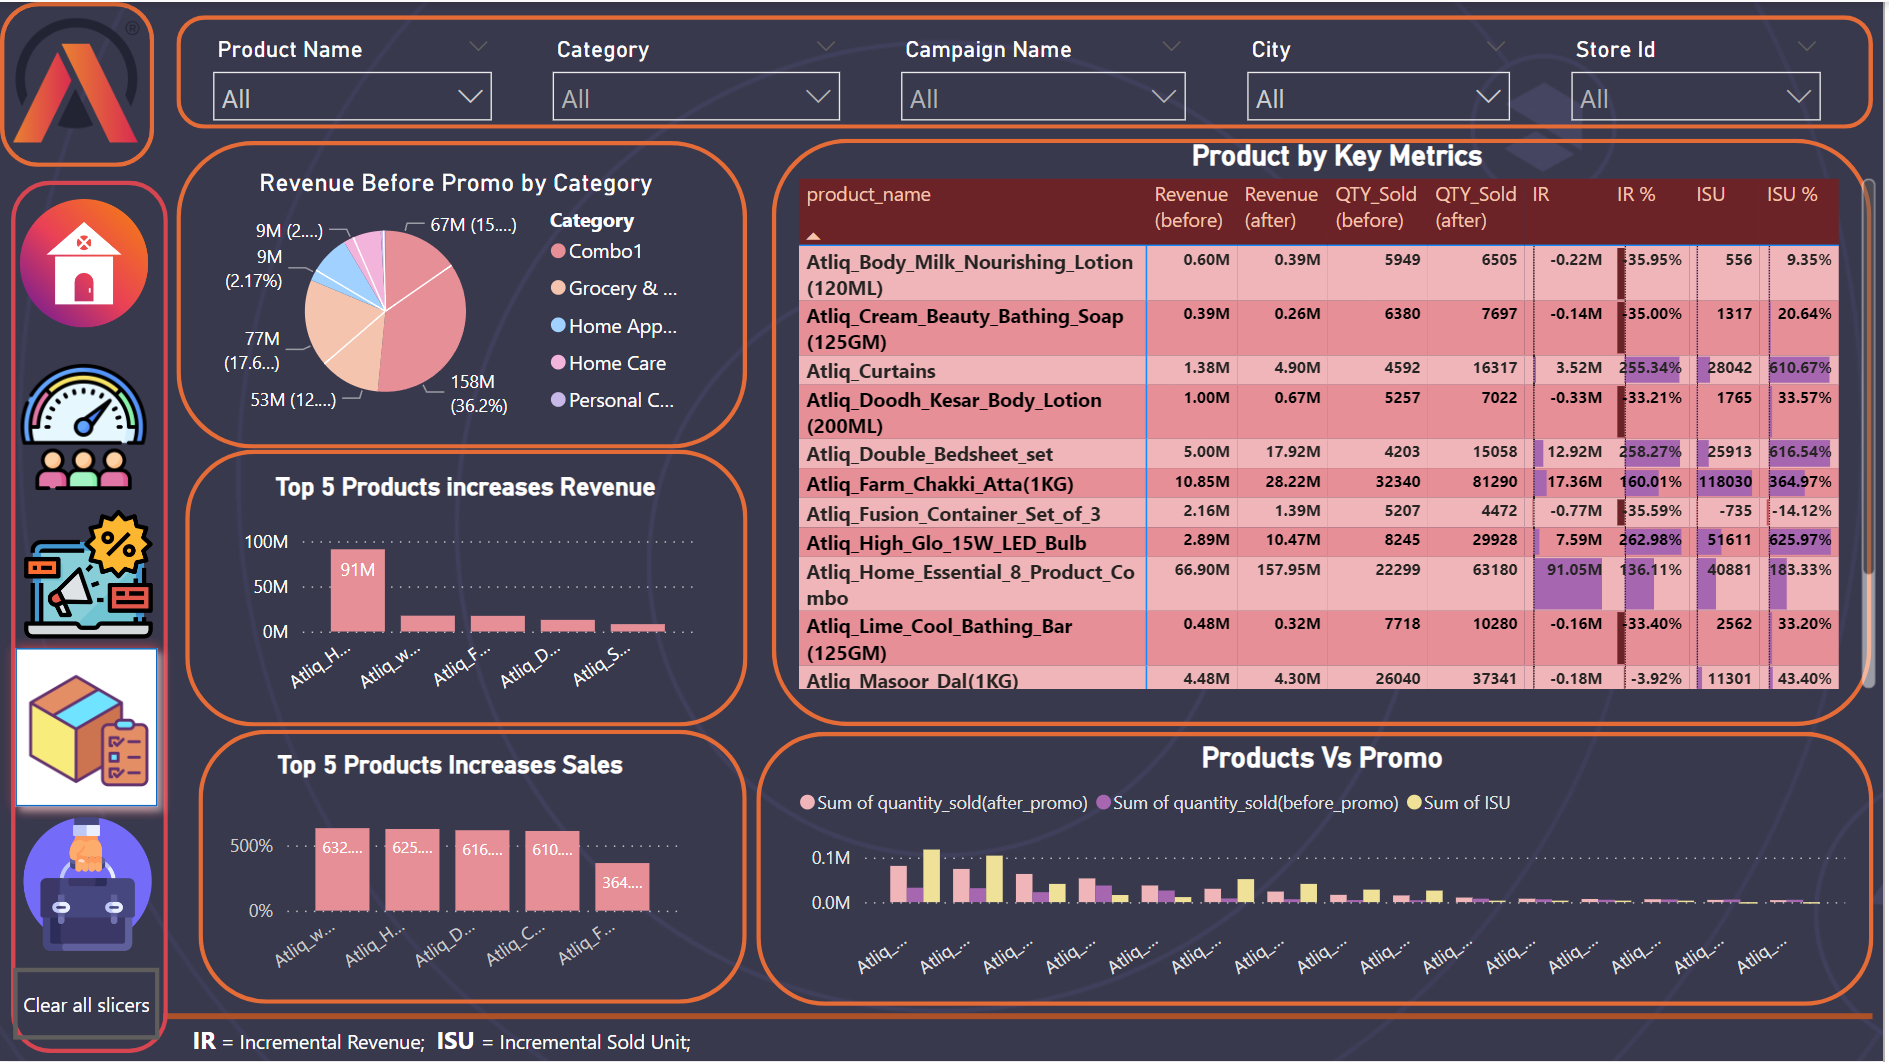

What the dashboard file says about the page in this screenshot:
{"tool":"powerbi","page":{"name":"Product and Category Analysis","canvas":[1280,720],"ordinal":3},"visuals":[{"type":"shape","box":[513.7,495.6,759.7,186.3],"z":0},{"type":"shape","box":[110.9,657.8,1162.3,62.8],"z":1000},{"type":"shape","box":[7.2,121.2,106.7,593.3],"z":2000},{"type":"shape","box":[1.8,430.6,114.6,125.7],"z":3000},{"type":"shape","box":[119.9,95.1,388.1,209.3],"z":4000},{"type":"shape","box":[135.1,494.7,372.9,186.4],"z":5000},{"type":"shape","box":[119.6,9.2,1153.6,77.3],"z":6000},{"type":"shape","box":[125.6,304.4,382.4,188.4],"z":7000},{"type":"shape","box":[525.1,93.2,747.7,399.5],"z":8000},{"type":"shape","box":[0,0,104.9,112.2],"z":9000},{"type":"slicer","fields":{"Values":["dim_products.product_name"]},"box":[134.3,18.4,209.7,68.1],"z":10000},{"type":"slicer","fields":{"Values":["dim_products.category"]},"box":[365.7,18.4,215.3,68.1],"z":11000},{"type":"slicer","fields":{"Values":["dim_campaign.campaign_name"]},"box":[602.6,18.4,213.4,68.1],"z":12000},{"type":"slicer","fields":{"Values":["dim_stores.city"]},"box":[837.6,18.4,198.7,68.1],"z":13000},{"type":"slicer","fields":{"Values":["dim_stores.store_id"]},"box":[1057.9,18.4,189.5,68.1],"z":14000},{"type":"pivotTable","title":"Product by Key Metrics","fields":{"Rows":["dim_products.product_name"],"Values":["Key_measures.Revenue_before_promo","Key_measures.Revenue_after_promo","Sum(fact_events.quantity_sold(before_promo))","Sum(fact_events.quantity_sold(after_promo))","Sum(fact_events.IR)","Key_measures.IR %","Sum(fact_events.ISU)","Key_measures.ISU %"]},"box":[538.4,93.2,742,378.6],"z":15000},{"type":"image","box":[3.6,3.6,99.5,99.5],"z":16000},{"type":"image","box":[7.2,103.1,99.5,148.3],"z":17000},{"type":"image","box":[9,238.7,95.9,101.3],"z":18000},{"type":"image","box":[10.9,340,99.5,97.7],"z":19000},{"type":"image","box":[11.1,449,99.8,94.2],"z":20000},{"type":"clusteredColumnChart","title":"Top 5 Products increases Revenue","fields":{"Category":["dim_products.product_name"],"Y":["Sum(fact_events.IR)"]},"box":[156,319.6,321.5,161.7],"z":21000},{"type":"pieChart","title":"Revenue Before Promo by Category","fields":{"Category":["dim_products.category"],"Y":["Key_measures.Revenue_before_promo","Key_measures.Revenue_after_promo"]},"box":[145.4,112.2,329.3,176.6],"z":22000},{"type":"clusteredColumnChart","title":"Top 5 Products Increases Sales","fields":{"Category":["dim_products.product_name"],"Y":["Key_measures.ISU %"]},"box":[146,508.2,321.5,162.6],"z":23000},{"type":"actionButton","box":[9,656.6,99.5,48.8],"z":24000},{"type":"image","box":[9,542.6,101.3,113.9],"z":25000},{"type":"clusteredColumnChart","title":"Products Vs Promo","fields":{"Category":["dim_products.product_name"],"Y":["Sum(fact_events.quantity_sold(after_promo))","Sum(fact_events.quantity_sold(before_promo))","Sum(fact_events.ISU)"]},"box":[539,502.8,721.7,171.8],"z":26000},{"type":"textbox","box":[125.7,689.3,526.6,31.4],"z":27000}]}

Visuals, with their boxes in screenshot pixels (x1, y1, x2, y2), scaled from the page's 1280x720 canvas onto the 1889x1062 screenshot:
shape: (758,731,1879,1006)
shape: (164,970,1879,1061)
shape: (11,179,168,1054)
shape: (3,635,172,821)
shape: (177,140,750,449)
shape: (199,730,750,1005)
shape: (177,14,1879,128)
shape: (185,449,750,727)
shape: (775,137,1878,727)
shape: (0,0,155,165)
slicer - dim_products.product_name: (198,27,508,128)
slicer - dim_products.category: (540,27,857,128)
slicer - dim_campaign.campaign_name: (889,27,1204,128)
slicer - dim_stores.city: (1236,27,1529,128)
slicer - dim_stores.store_id: (1561,27,1841,128)
"Product by Key Metrics" pivotTable: (795,137,1888,696)
image: (5,5,152,152)
image: (11,152,157,371)
image: (13,352,155,502)
image: (16,502,163,646)
image: (16,662,164,801)
"Top 5 Products increases Revenue" clusteredColumnChart: (230,471,705,710)
"Revenue Before Promo by Category" pieChart: (215,165,701,426)
"Top 5 Products Increases Sales" clusteredColumnChart: (215,750,690,989)
actionButton: (13,968,160,1040)
image: (13,800,163,968)
"Products Vs Promo" clusteredColumnChart: (795,742,1861,995)
textbox: (186,1017,963,1061)
